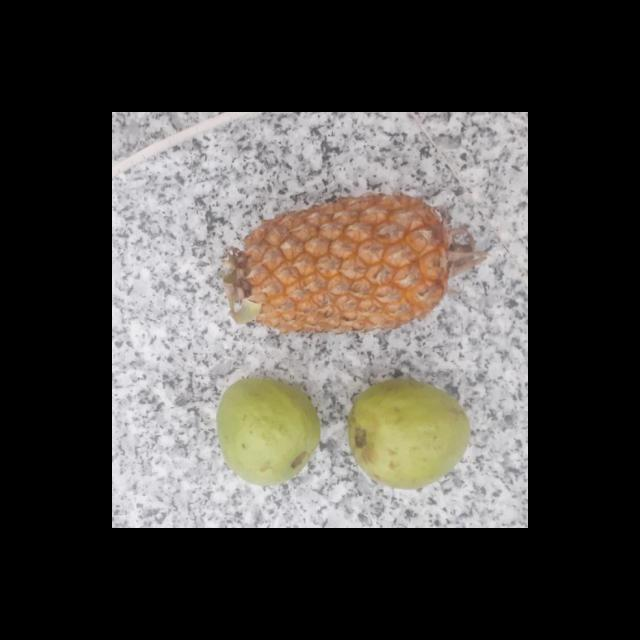guava: (342, 376, 470, 488), (212, 380, 322, 484)
pineapple: (224, 190, 465, 336)
